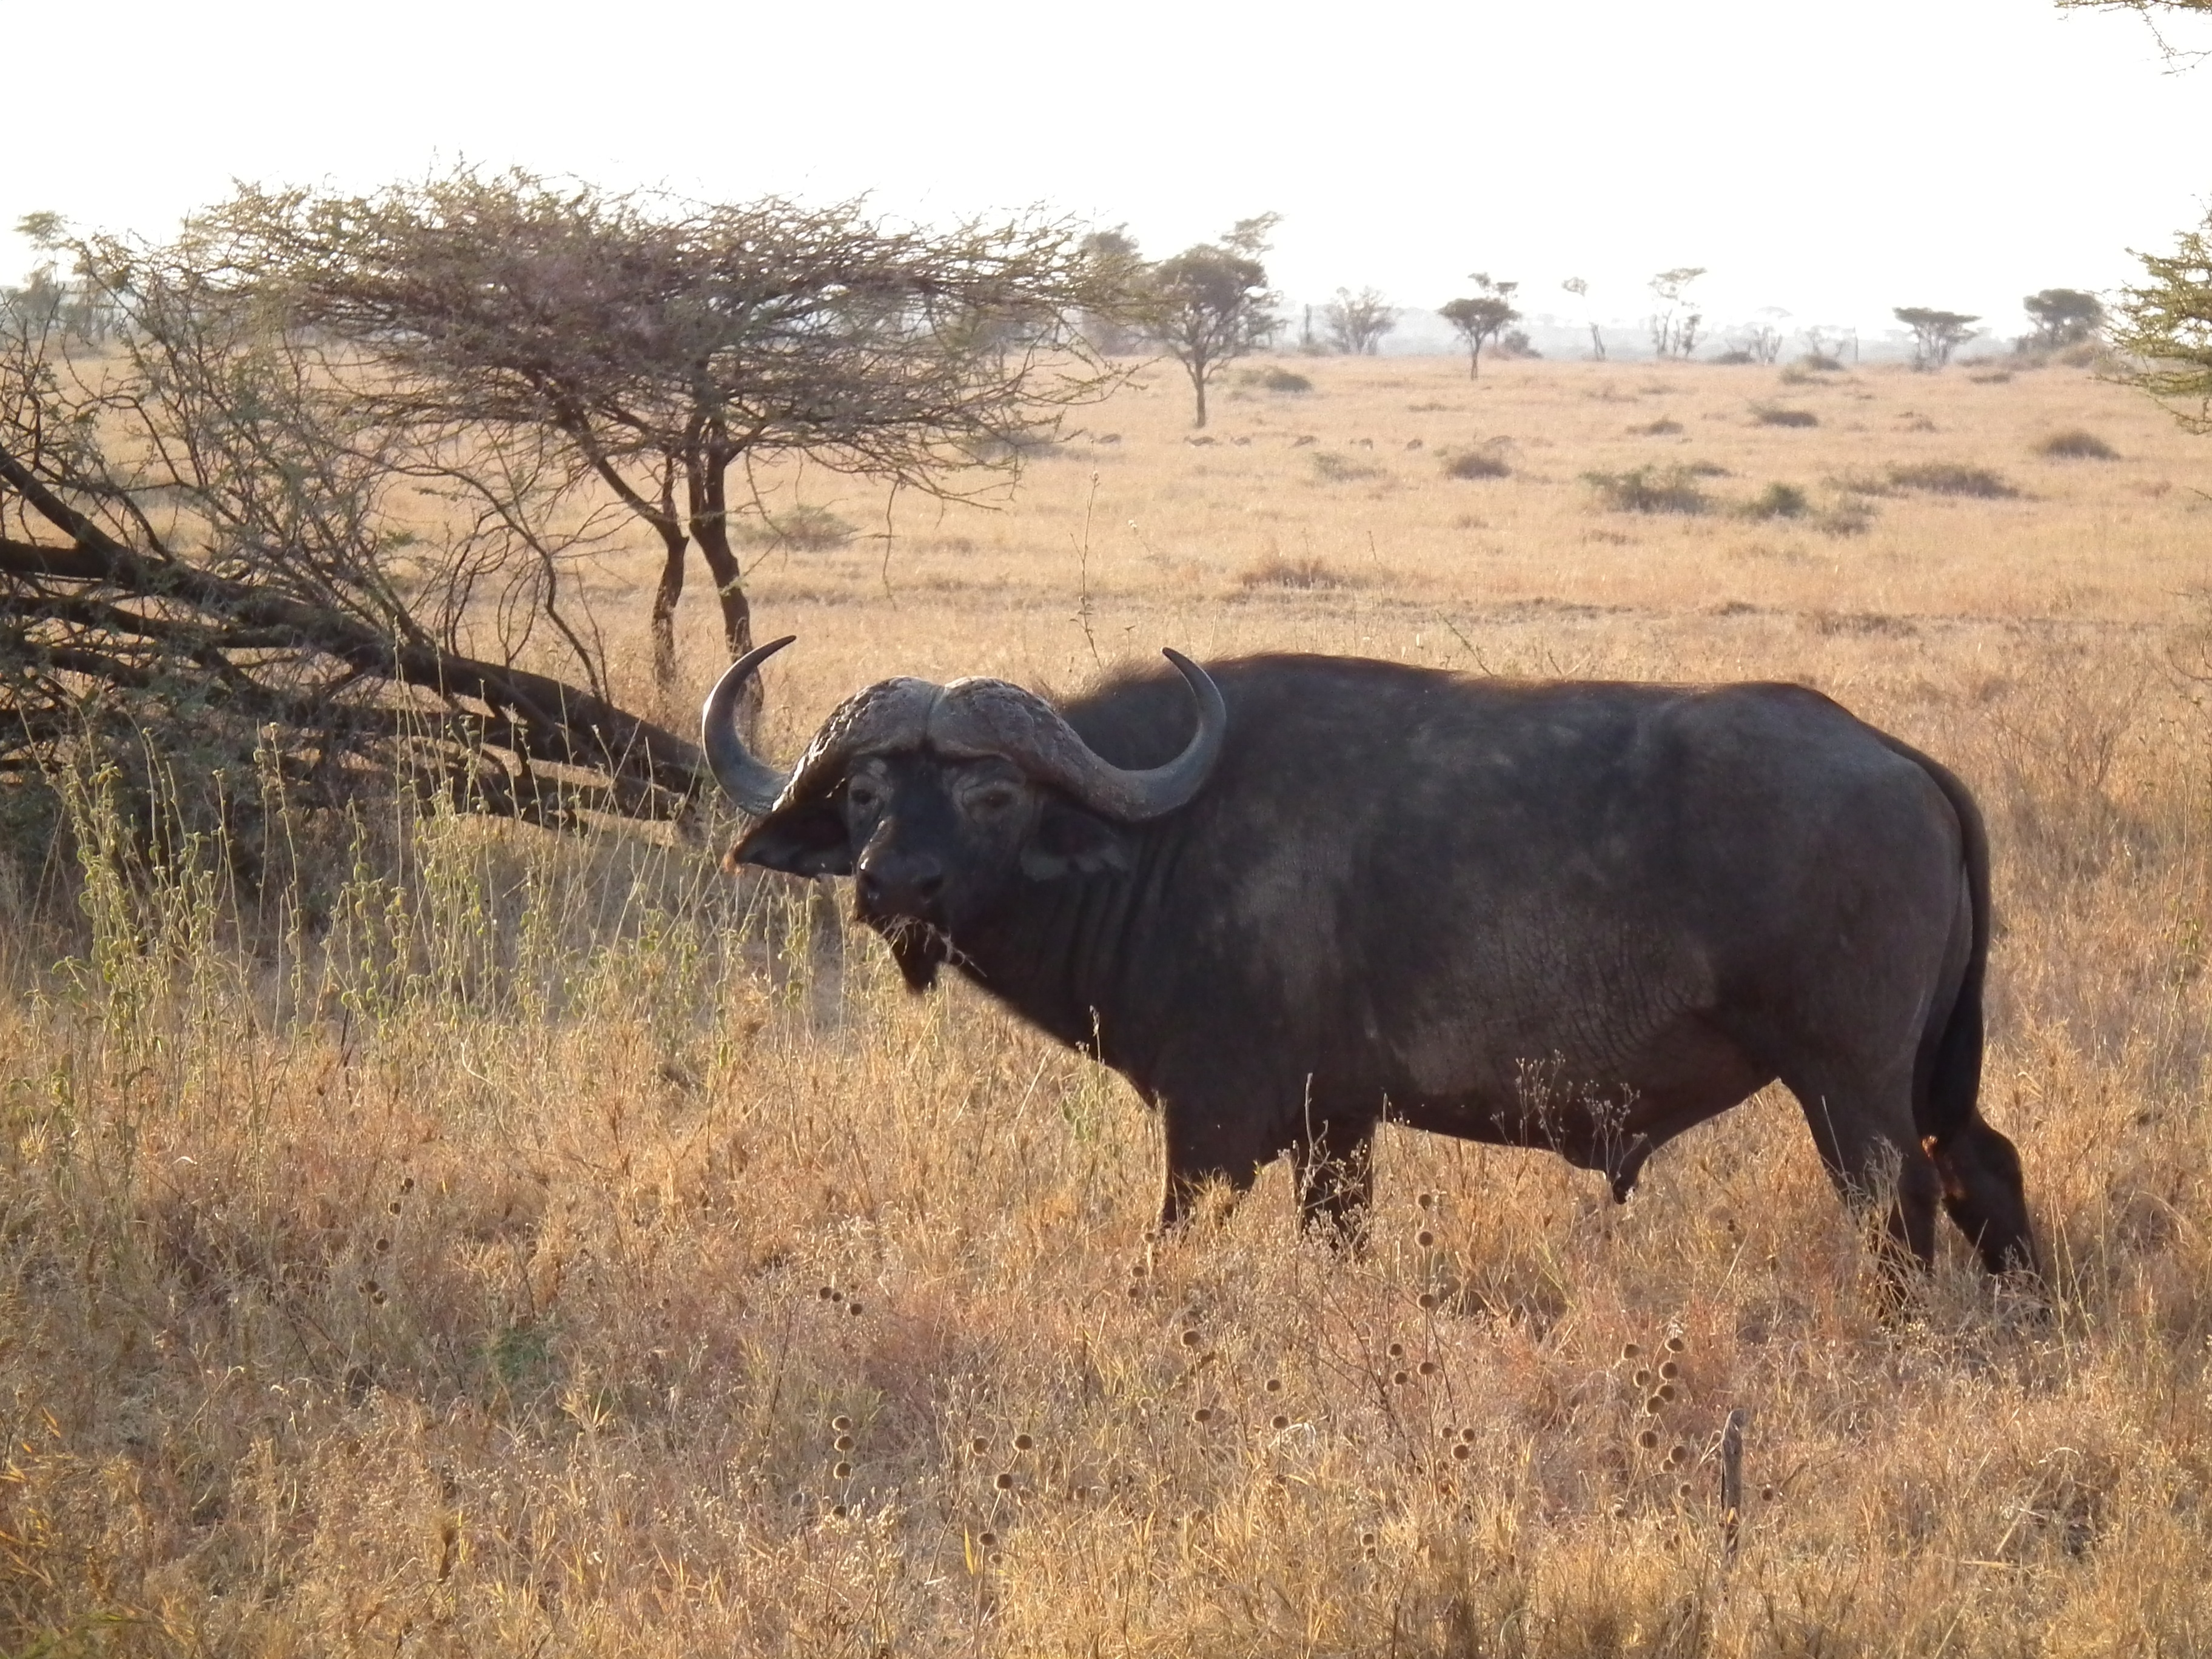buffalo: (697, 634, 2047, 1253)
